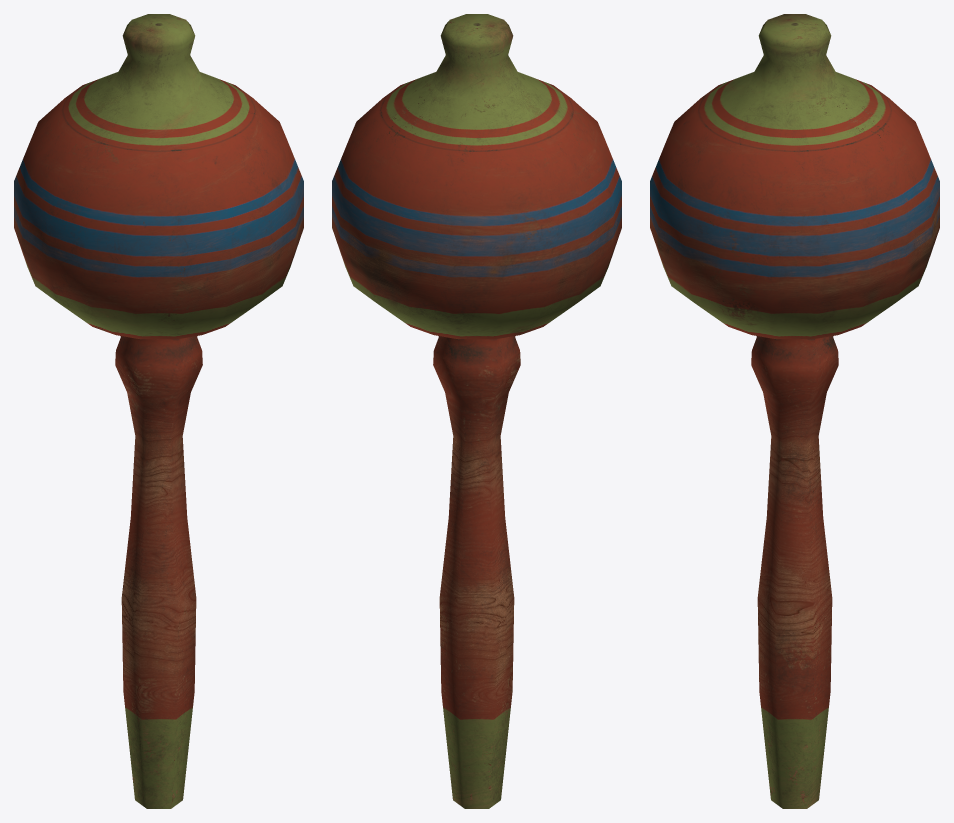
The model's file is BabyRattle.glb.
The picture shows the model from 3 angles, left to right: view 1: azimuth 30°, elevation 25°; view 2: azimuth 150°, elevation 25°; view 3: azimuth 270°, elevation 25°; orthographic projection.
Parts seen in each view (by area): view 1: BabyRattle; view 2: BabyRattle; view 3: BabyRattle.
Part boxes in pixels (x1,y1,x2,y2): BabyRattle: (14,14,303,808); BabyRattle: (332,14,621,808); BabyRattle: (650,14,939,808).
Size of the model in its own units: 0.2427 by 0.7336 by 0.2465.
Materials: 1 (1 with a texture image).
